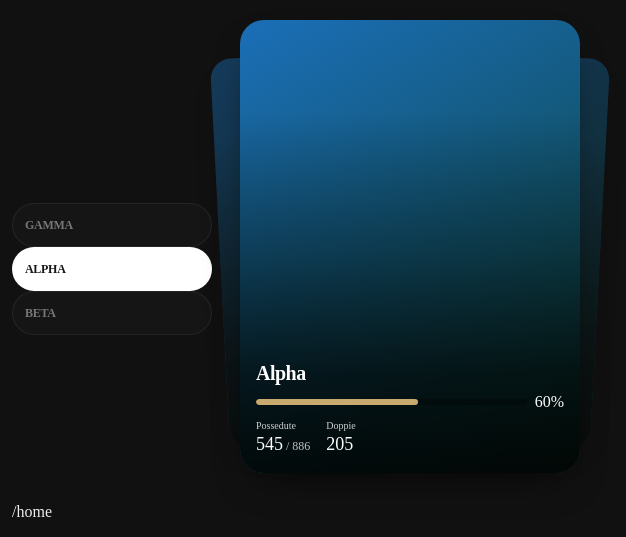
Test: AlbumDeck › tap sulla copertina attiva apre /album/:id
Click the button with aria-label "Apri Alpha": (410, 246) [240,20,580,473]
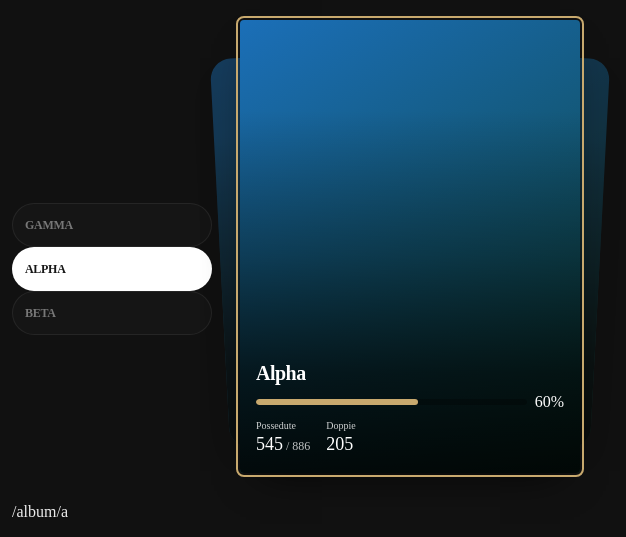
Result: the text with test id "loc" reads "/album/a" at [12,503,68,520]
